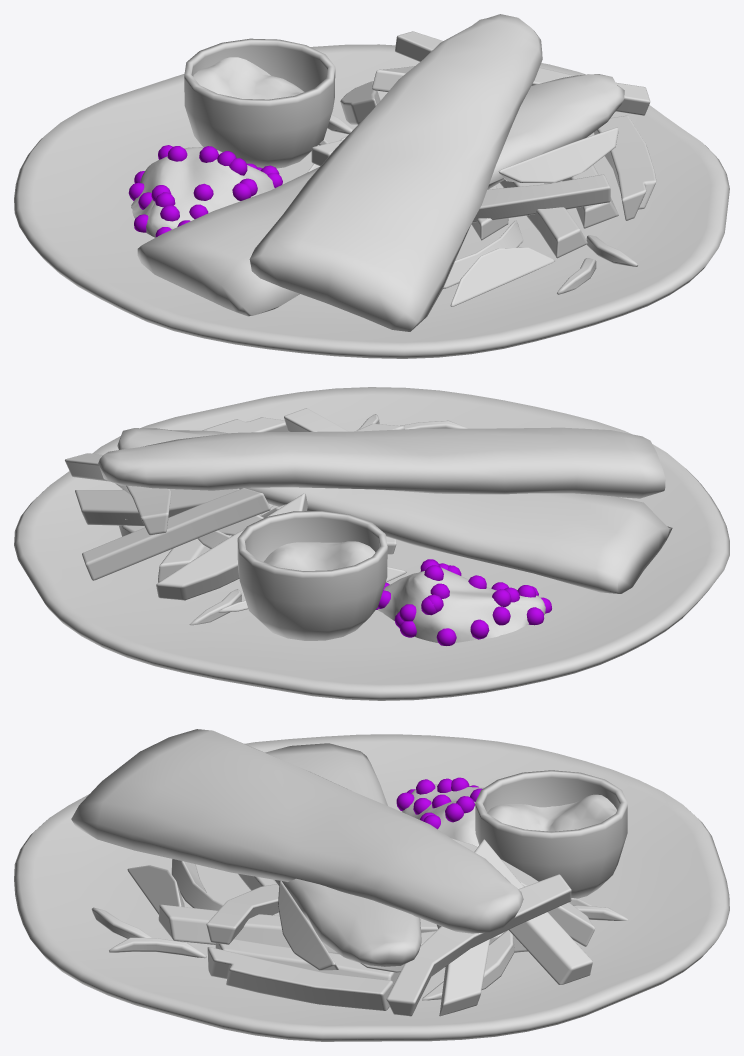
Rendered from Fish chips.fbx.
The picture shows the model from 3 angles, top to bottom: view 1: azimuth 30°, elevation 25°; view 2: azimuth 150°, elevation 25°; view 3: azimuth 270°, elevation 25°; orthographic projection.
Visible parts, largest first — view 1: plate_lp, fish_2_lp, fries_lp, fish_1_lp, bowl_lp, beans_lp, bowl_stuff_lp; view 2: plate_lp, fish_2_lp, fish_1_lp, fries_lp, bowl_lp, beans_lp, bowl_stuff_lp; view 3: plate_lp, fish_2_lp, fries_lp, bowl_lp, fish_1_lp, bowl_stuff_lp, beans_lp.
Boxes of the visible parts, box(x1,y1,x2,y2) form: plate_lp: box(14, 44, 729, 358); fish_2_lp: box(249, 14, 542, 331); fries_lp: box(307, 31, 656, 306); fish_1_lp: box(137, 74, 624, 316); bowl_lp: box(184, 38, 335, 168); beans_lp: box(131, 147, 274, 237); bowl_stuff_lp: box(193, 57, 304, 99); plate_lp: box(14, 387, 729, 700); fish_2_lp: box(98, 427, 665, 498); fish_1_lp: box(117, 428, 672, 593); fries_lp: box(65, 408, 467, 625); bowl_lp: box(237, 510, 387, 640); beans_lp: box(378, 567, 545, 642); bowl_stuff_lp: box(263, 541, 375, 570); plate_lp: box(14, 734, 729, 1041); fish_2_lp: box(71, 729, 523, 933); fries_lp: box(91, 838, 627, 1016); bowl_lp: box(475, 770, 627, 898); fish_1_lp: box(265, 743, 421, 966); bowl_stuff_lp: box(487, 794, 616, 831); beans_lp: box(402, 784, 484, 846).
Bounding box in the file's own units: 1.96 × 0.3912 × 1.98.
